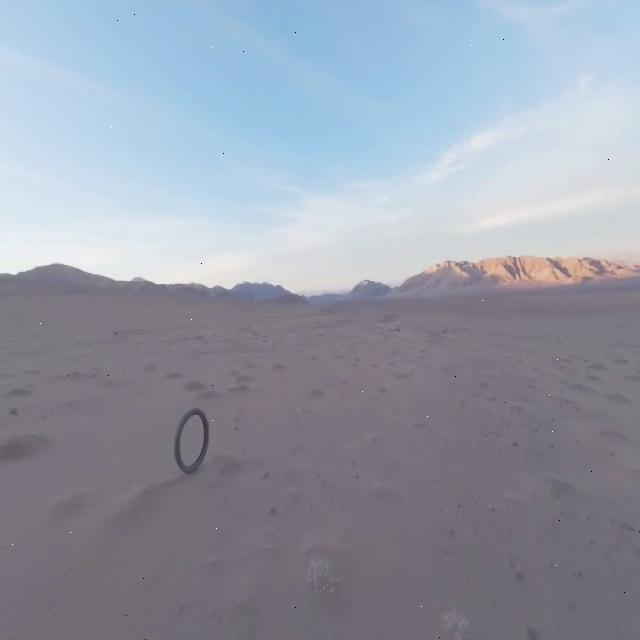Tire: (175, 408, 208, 473)
